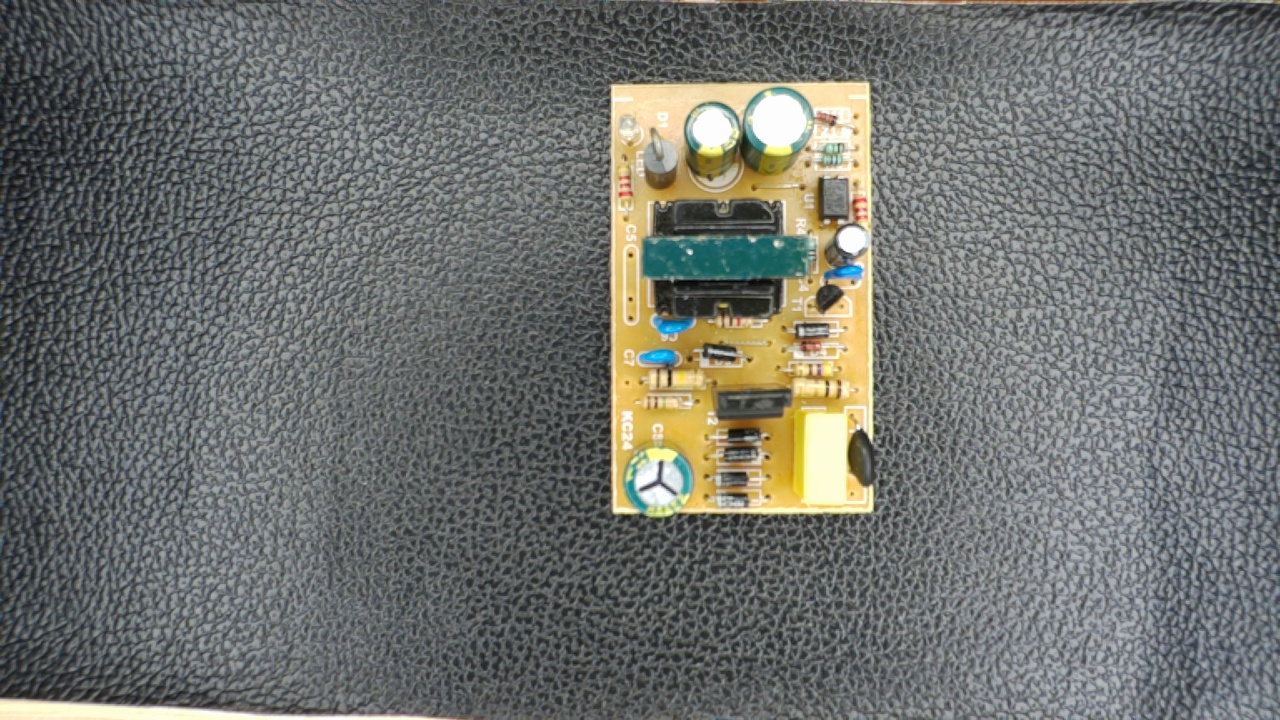fuse: (840, 405, 882, 497)
hv_capacitor: (621, 435, 699, 519)
optocoupler: (809, 165, 854, 230)
